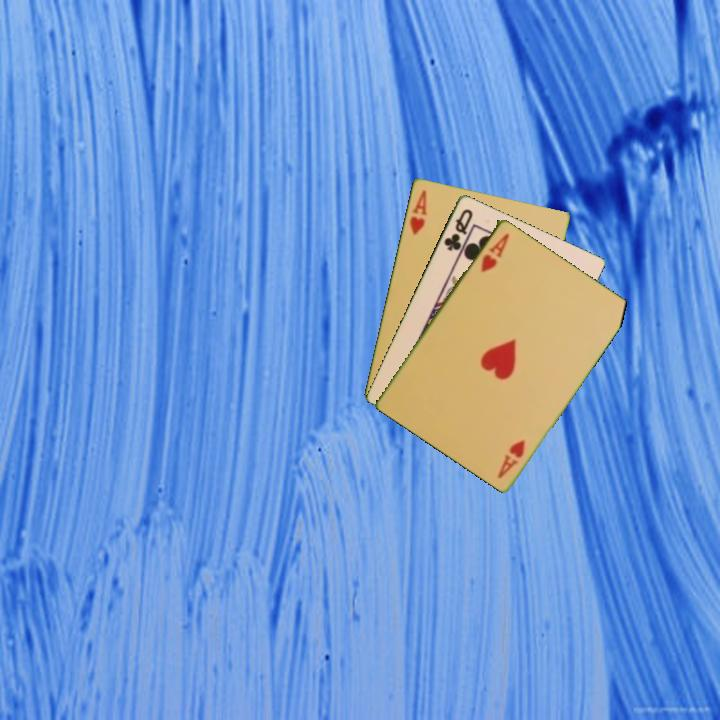Ah: (477, 229, 512, 275), (494, 435, 528, 481), (406, 186, 430, 238)
Qc: (440, 205, 476, 253)
